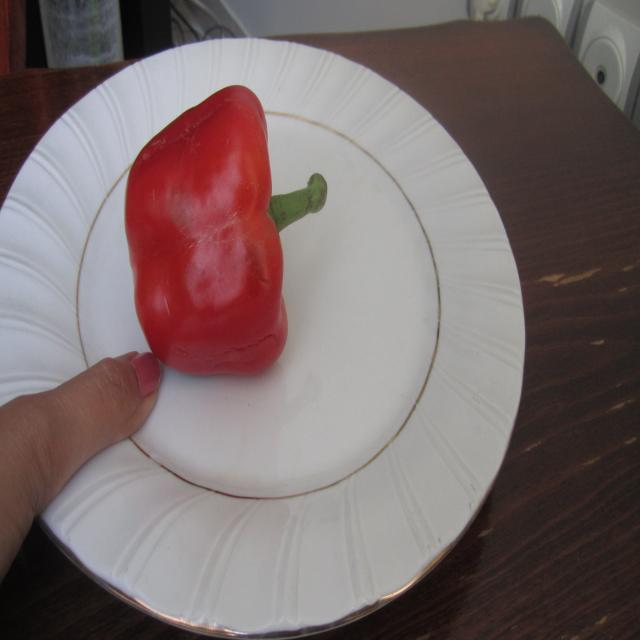Pepper: (123, 82, 328, 378)
